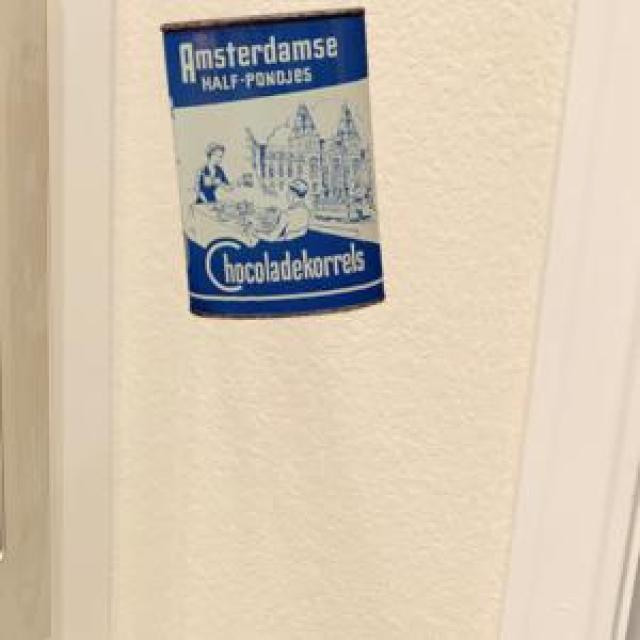Can: (159, 5, 381, 315)
